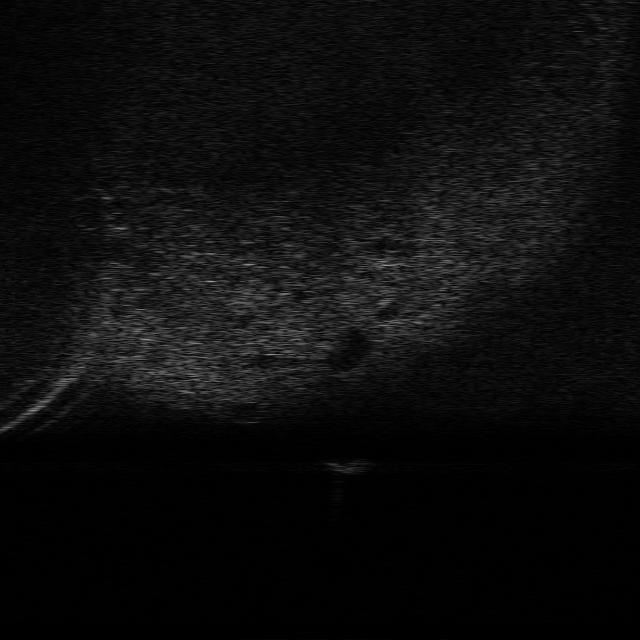cube: (322, 455, 368, 476)
